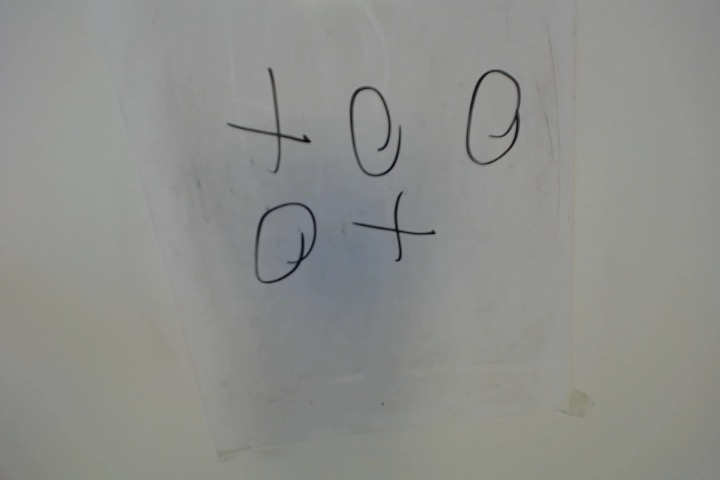0: (454, 69, 525, 168), (255, 199, 320, 285), (346, 87, 405, 177)
x: (225, 65, 316, 175), (354, 187, 437, 263)
